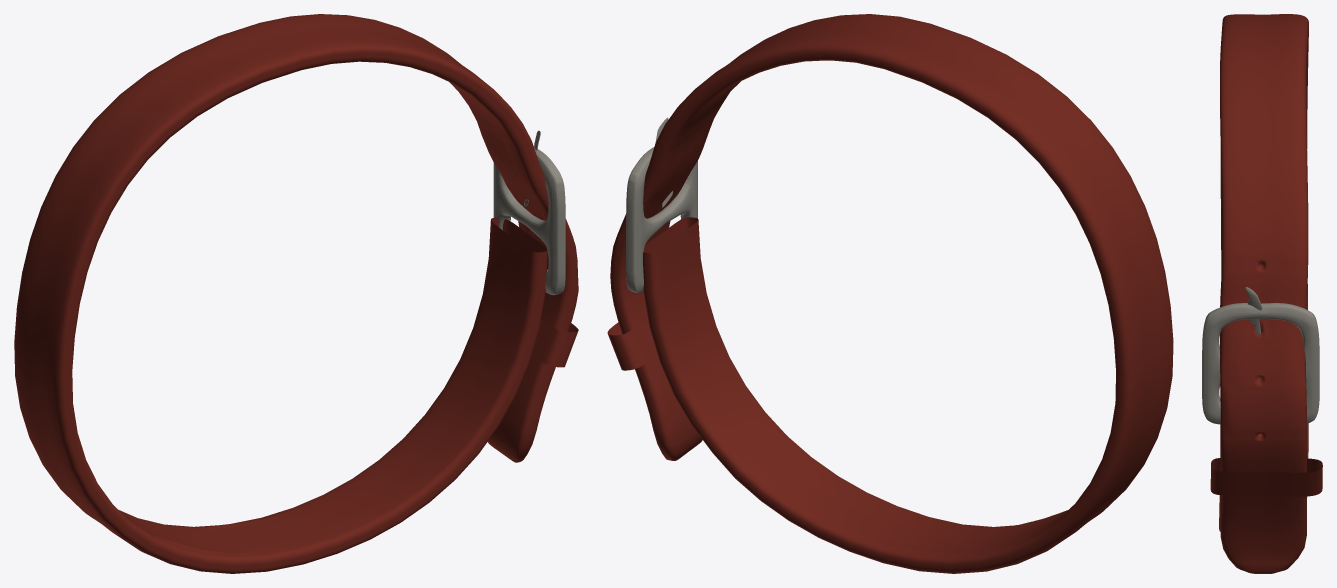
The model's file is Cinturon_Rojo.fbx.
3 views of the same model, side by side, from view 1: azimuth 30°, elevation 25°; view 2: azimuth 150°, elevation 25°; view 3: azimuth 270°, elevation 25° (orthographic). The views are drawn at different scales.
Parts seen in each view (by area): view 1: Correa, Hebilla; view 2: Correa, Hebilla; view 3: Correa, Hebilla, Circle.
Part boxes in pixels (x1=…): Correa: x1=14, y1=14, x2=578, y2=573; Hebilla: x1=493, y1=147, x2=565, y2=295; Correa: x1=607, y1=14, x2=1173, y2=573; Hebilla: x1=626, y1=147, x2=697, y2=292; Correa: x1=1210, y1=14, x2=1322, y2=573; Hebilla: x1=1202, y1=303, x2=1319, y2=424; Circle: x1=1245, y1=287, x2=1262, y2=334.
Bounding box in the file's own units: 218 × 204 × 47.64.
